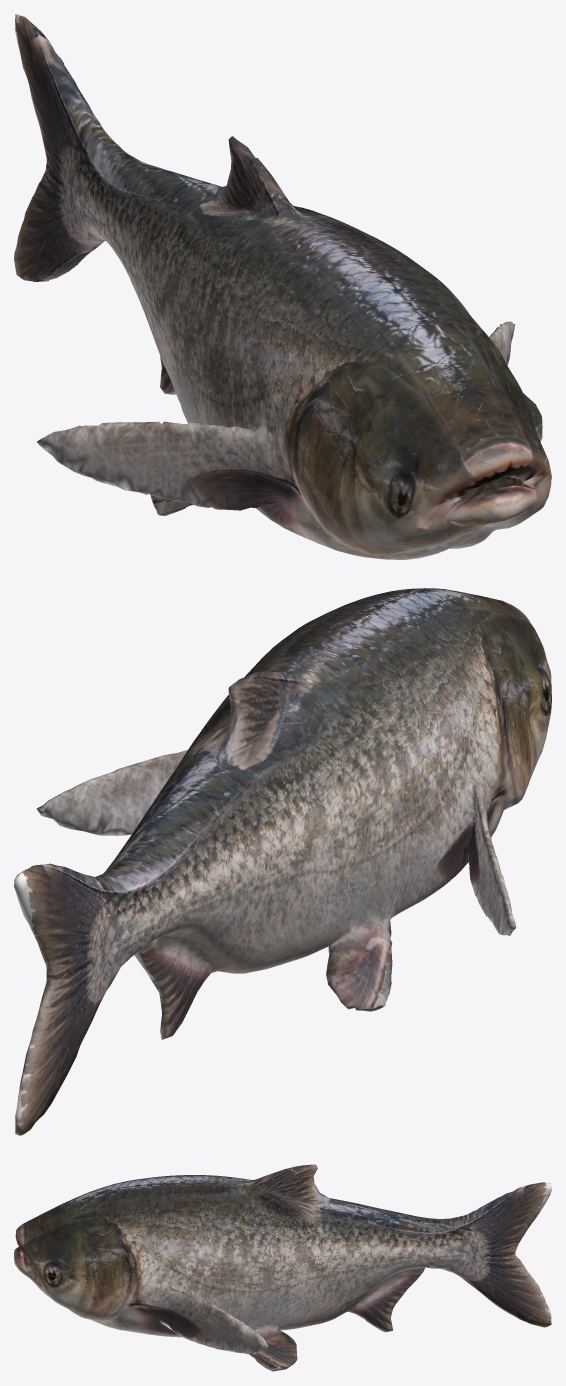
The model's file is fish_silvercarp.glb.
The picture shows the model from 3 angles, top to bottom: view 1: azimuth 30°, elevation 25°; view 2: azimuth 150°, elevation 25°; view 3: azimuth 270°, elevation 25°; orthographic projection. The views are drawn at different scales.
Visible parts, largest first — view 1: geometry_0; view 2: geometry_0; view 3: geometry_0.
Part boxes in pixels (x1,y1,x2,y2): geometry_0: (14,14,551,559); geometry_0: (14,588,551,1135); geometry_0: (14,1164,551,1371).
Size of the model in its own units: 1.1 by 0.712 by 1.96.
Materials: 1 (1 with a texture image).
